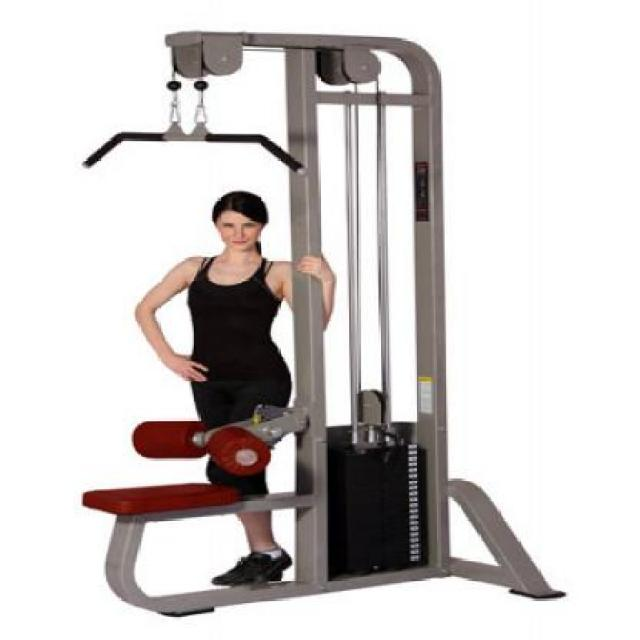Lat Pull Down: (60, 18, 577, 620)
